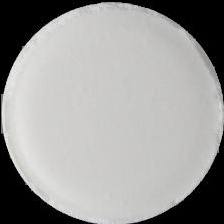64205-740: (0, 0, 224, 224)
